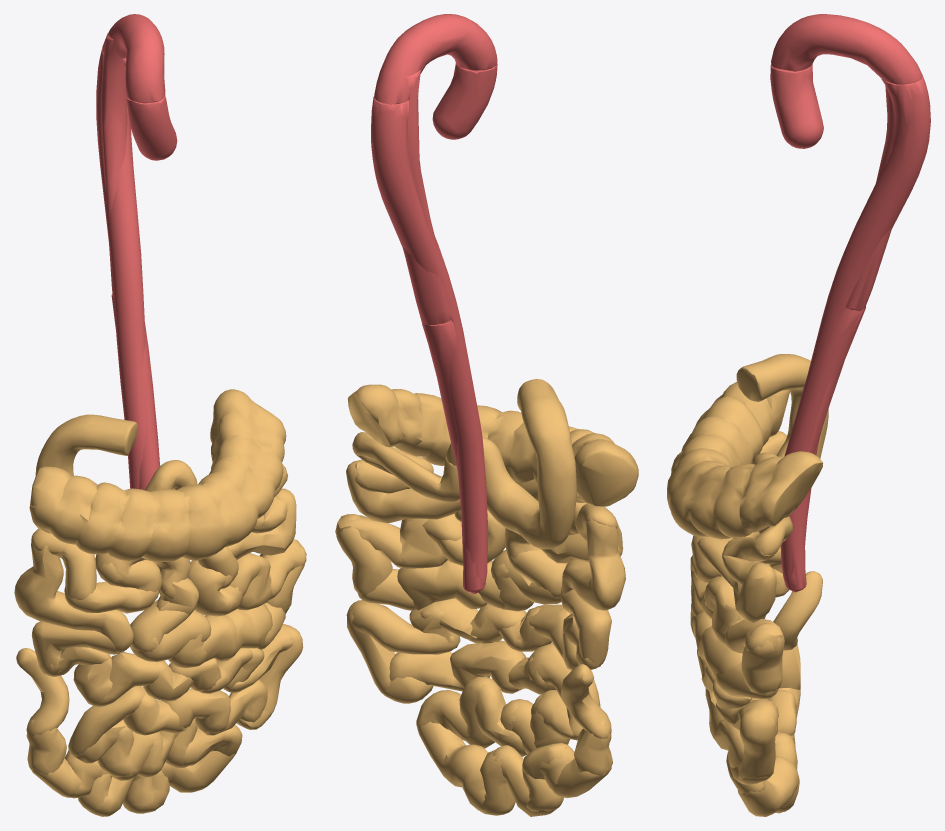
File: periumbilical.glb
The picture shows the model from 3 angles, left to right: view 1: azimuth 30°, elevation 25°; view 2: azimuth 150°, elevation 25°; view 3: azimuth 270°, elevation 25°; orthographic projection. The views are drawn at different scales.
Parts seen in each view (by area): view 1: intestino-delgado, colon-transverso, aorta; view 2: intestino-delgado, aorta, colon-transverso; view 3: intestino-delgado, aorta, colon-transverso.
Part boxes in pixels (x1,y1,x2,y2): intestino-delgado: (14,414,306,816); colon-transverso: (29,389,286,562); aorta: (96,14,177,563); intestino-delgado: (335,379,625,816); aorta: (371,14,497,593); colon-transverso: (348,384,638,506); intestino-delgado: (690,354,828,816); aorta: (770,14,930,592); colon-transverso: (667,382,822,539).
Size of the model in its own units: 0.1954 by 0.5118 by 0.1518.
